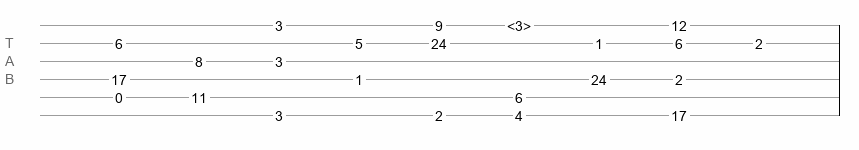0: (115, 90, 123, 100)
1: (355, 72, 363, 82), (595, 36, 603, 46)
11: (191, 90, 207, 100)
12: (671, 18, 687, 28)
17: (111, 72, 127, 82), (671, 108, 687, 118)
2: (435, 108, 443, 118), (675, 72, 683, 82), (755, 36, 763, 46)
24: (431, 36, 447, 46), (591, 72, 607, 82)
3: (275, 54, 283, 64), (275, 108, 283, 118), (275, 18, 283, 28)
4: (515, 108, 523, 118)
5: (355, 36, 363, 46)
6: (115, 36, 123, 46), (515, 90, 523, 100), (675, 36, 683, 46)
8: (195, 54, 203, 64)
9: (435, 18, 443, 28)
harmonic: (507, 18, 531, 28)
